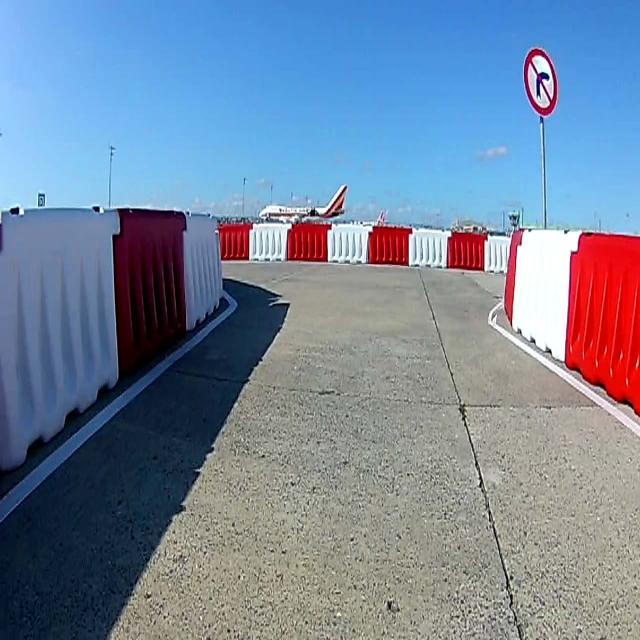sagadonulmez: (525, 50, 558, 116)
